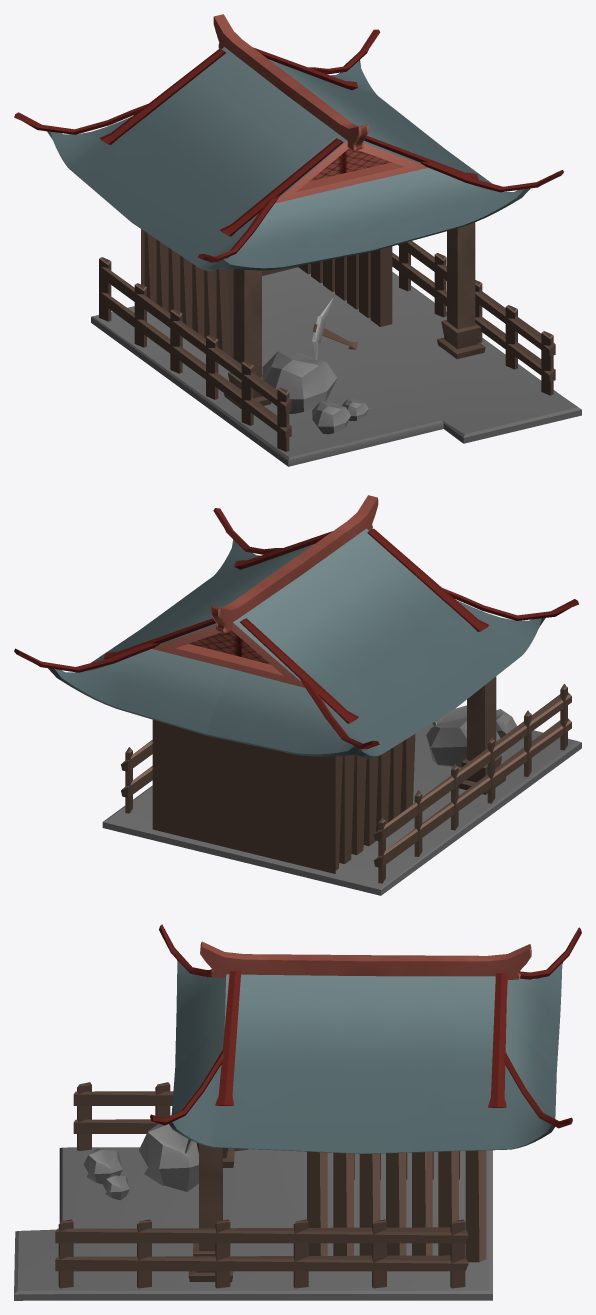
Rendered from mine_2lvl.fbx.
The picture shows the model from 3 angles, top to bottom: view 1: azimuth 30°, elevation 25°; view 2: azimuth 150°, elevation 25°; view 3: azimuth 270°, elevation 25°; orthographic projection. The views are drawn at different scales.
Parts seen in each view (by area): view 1: mine_2lvl; view 2: mine_2lvl; view 3: mine_2lvl.
Boxes of the visible parts, box(x1,y1,x2,y2) form: mine_2lvl: box(14, 14, 581, 466); mine_2lvl: box(14, 495, 581, 895); mine_2lvl: box(14, 924, 581, 1300).
Size of the model in its own units: 536 by 362 by 652.
